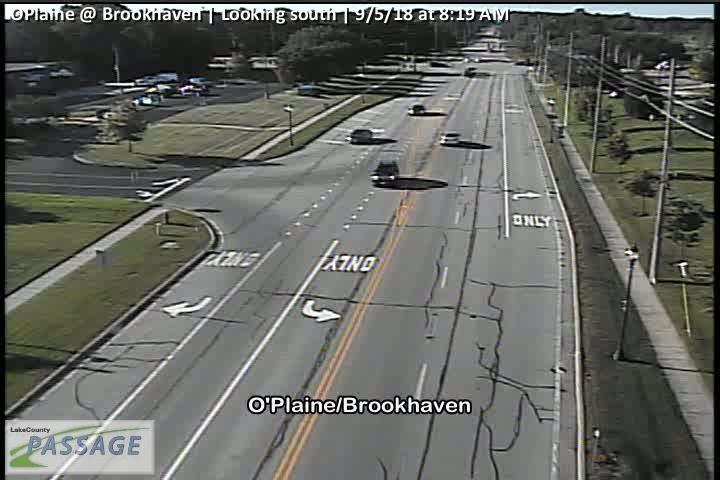SUV: (370, 159, 399, 181), (440, 132, 457, 144)
Sedan: (350, 129, 371, 144), (408, 104, 424, 116), (464, 68, 475, 75)
